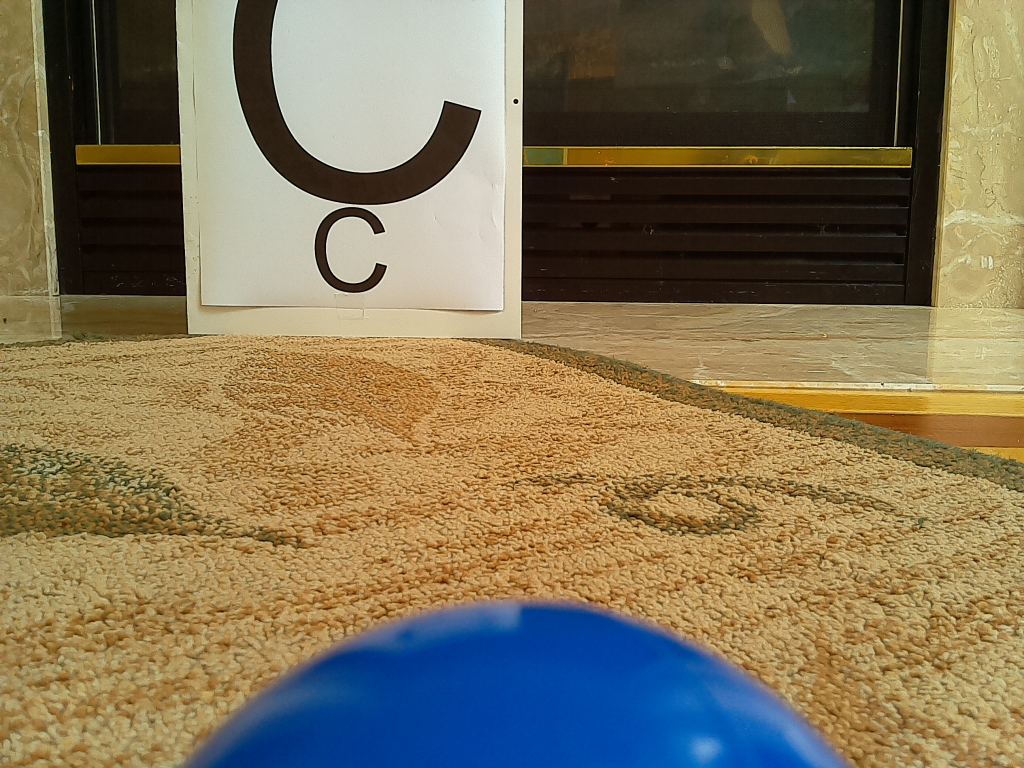letter: (314, 206, 387, 293)
